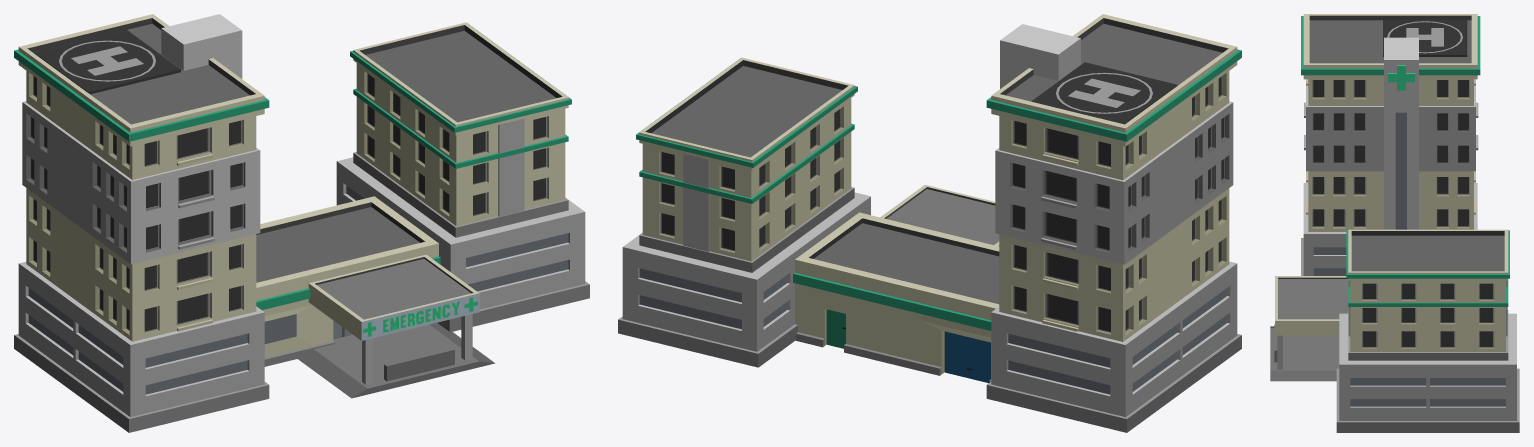
The model's file is SA_Bld_HospitalBuildingMain_01.fbx.
The picture shows the model from 3 angles, left to right: view 1: azimuth 30°, elevation 25°; view 2: azimuth 150°, elevation 25°; view 3: azimuth 270°, elevation 25°; orthographic projection. The views are drawn at different scales.
Visible parts, largest first — view 1: SA_Bld_HospitalBuildingMain_01, SA_Bld_HospitalBuildingMain_HeliPad_01; view 2: SA_Bld_HospitalBuildingMain_01, SA_Bld_HospitalBuildingMain_HeliPad_01; view 3: SA_Bld_HospitalBuildingMain_01, SA_Bld_HospitalBuildingMain_HeliPad_01.
Boxes of the visible parts, box(x1,y1,x2,y2) form: SA_Bld_HospitalBuildingMain_01: box(14, 14, 589, 432); SA_Bld_HospitalBuildingMain_HeliPad_01: box(34, 30, 180, 94); SA_Bld_HospitalBuildingMain_01: box(618, 14, 1241, 432); SA_Bld_HospitalBuildingMain_HeliPad_01: box(1031, 62, 1177, 124); SA_Bld_HospitalBuildingMain_01: box(1270, 14, 1519, 432); SA_Bld_HospitalBuildingMain_HeliPad_01: box(1383, 19, 1467, 56).
Bounding box in the file's own units: 64.53 × 41.27 × 36.96.
